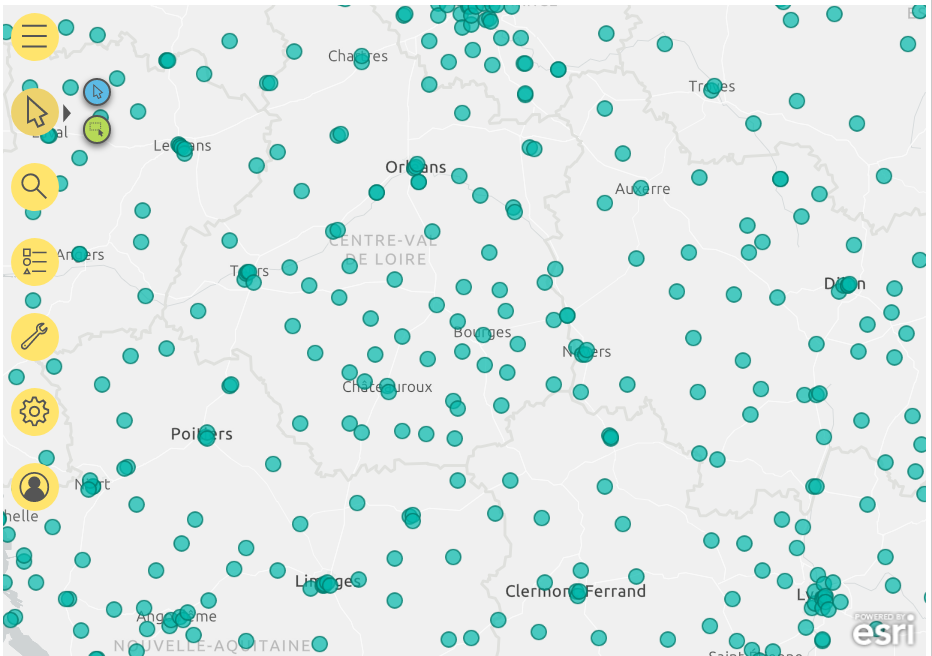

What the dashboard file says about the page in this screenshot:
{"tool":"powerbi","page":{"name":"Page 1","canvas":[1280,720],"ordinal":0},"visuals":[{"type":"esriVisual","fields":{"Longitude":["centres-vaccination.long_coor1"],"Latitude":["centres-vaccination.lat_coor1"]},"box":[422.4,153.6,506.9,412.8],"z":0}]}

Visuals, with their boxes on the page's 1280x720 design canvas (x1, y1, x2, y2). These are canvas units, not pixel positions in the 932x656 screenshot, which may show the page scaled, cropped or inside an application window:
esriVisual - centres-vaccination.long_coor1 x centres-vaccination.lat_coor1: (422, 154, 929, 566)
